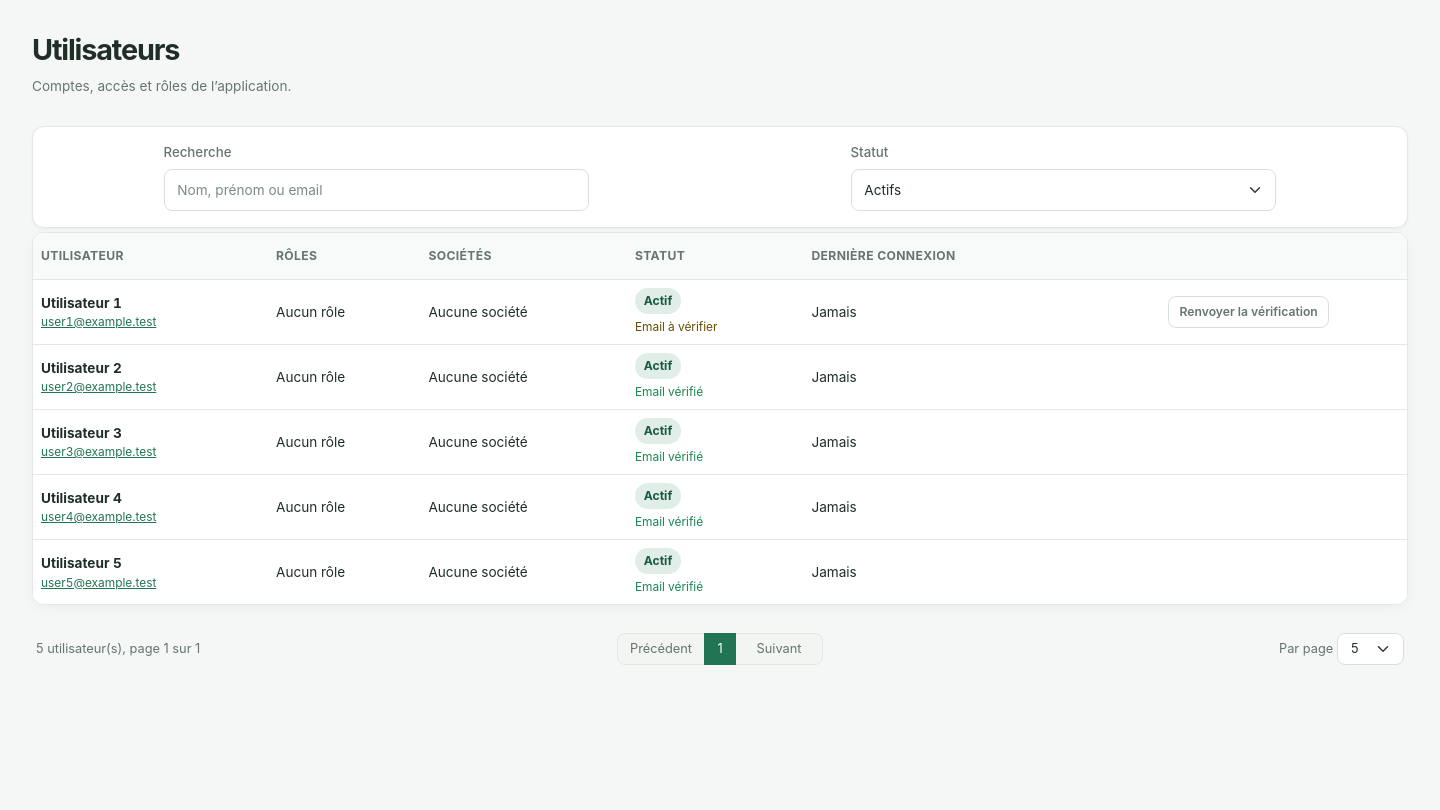
administrator table pagination › uses the dedicated permission to resend verification emails
Click the button with aria-label "Renvoyer l’email de vérification à Utilisateur 1" at point(1249, 312), box [1168,296,1329,328]
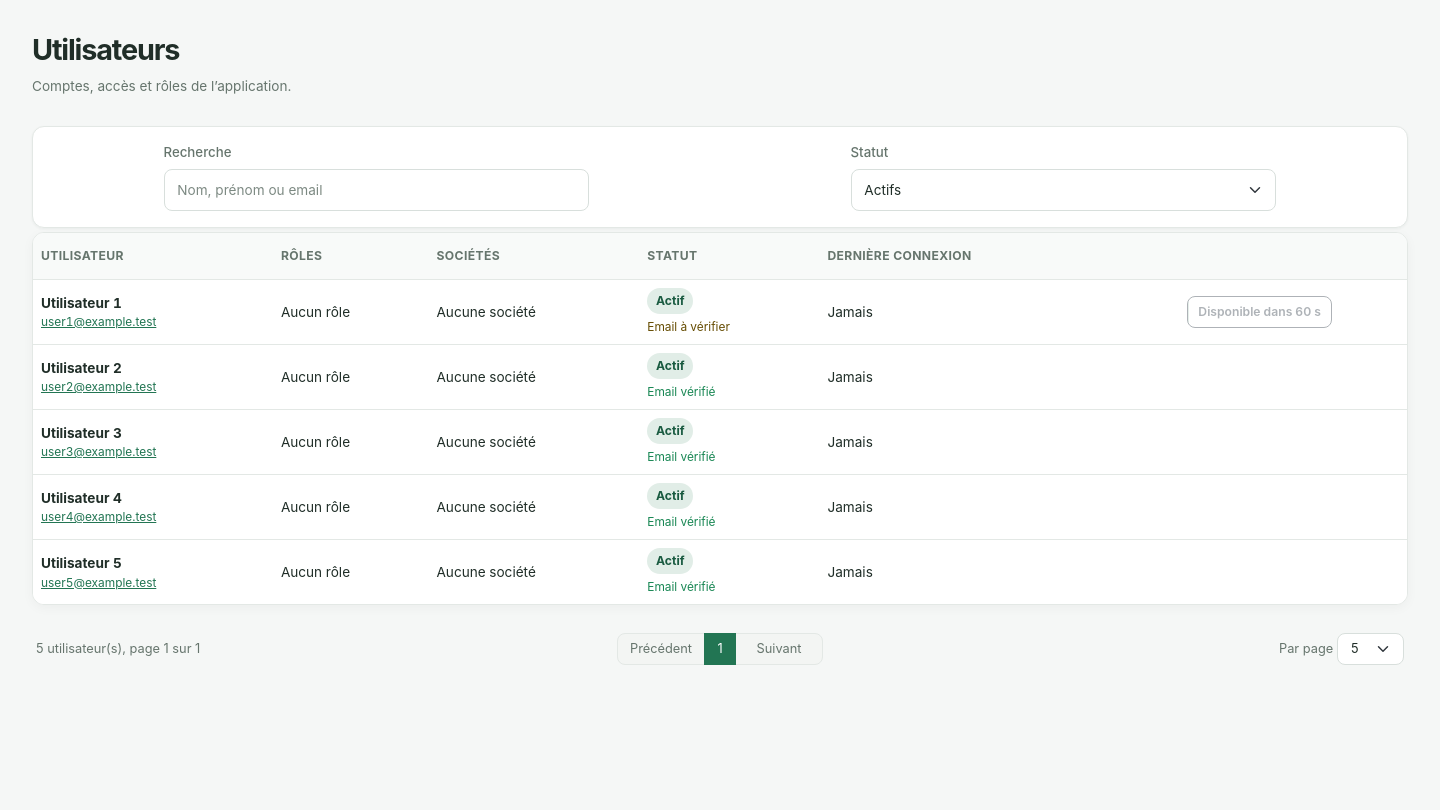
Expected: the button named "Renvoyer l’email de vérification à Utilisateur 1 - disponible dans 60 secondes" is disabled, [1187,296,1332,328]
